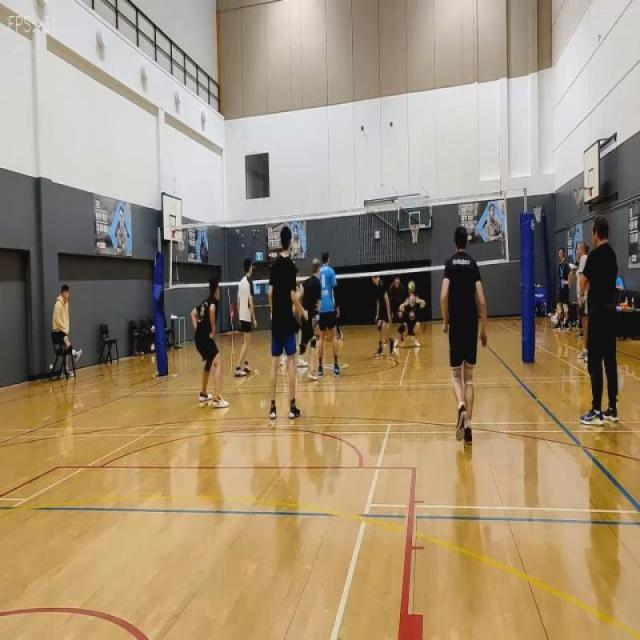volleyball: (408, 280, 416, 294)
